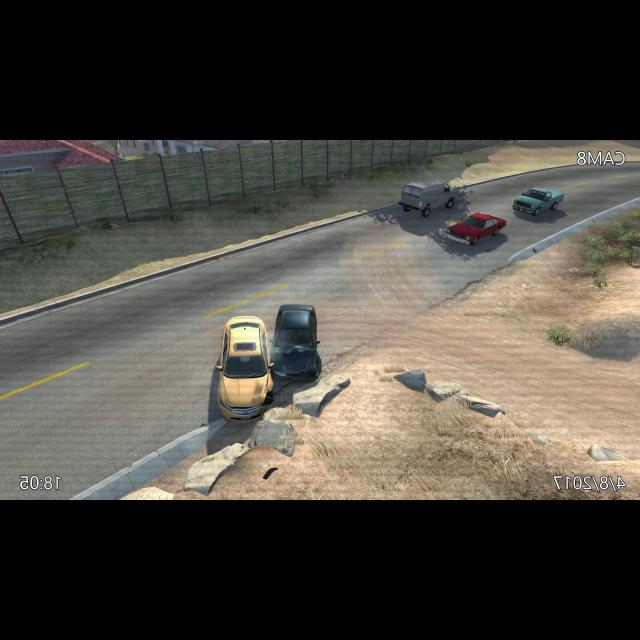moderate: (212, 301, 326, 423)
